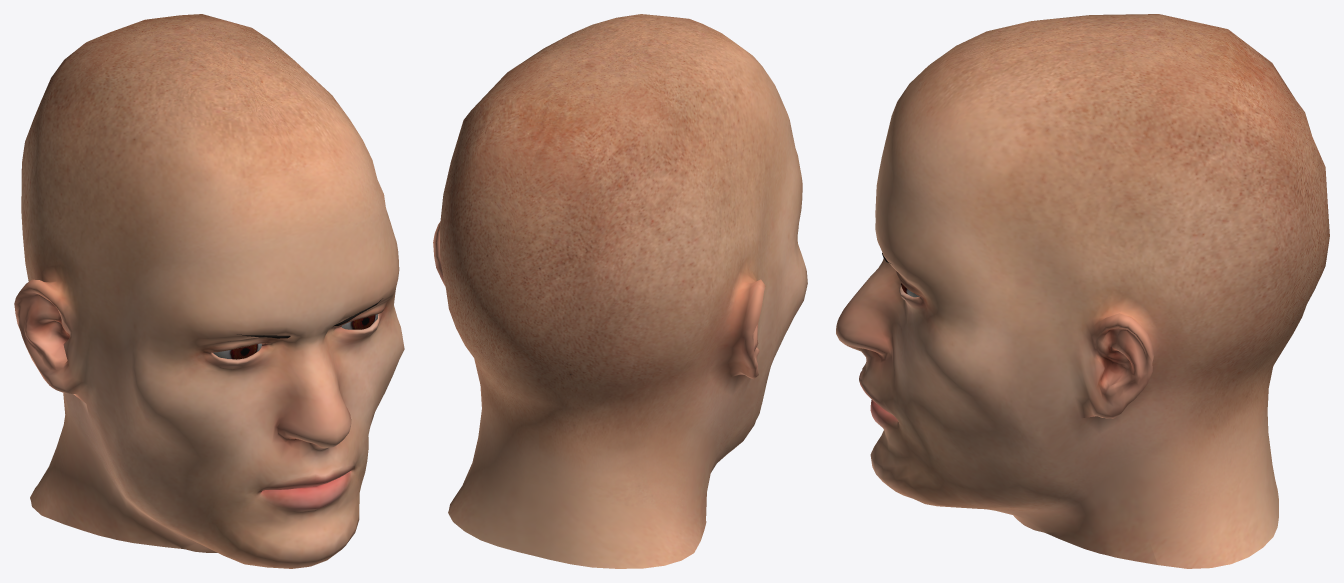
File: head_6_chadlite.fbx
The picture shows the model from 3 angles, left to right: view 1: azimuth 30°, elevation 25°; view 2: azimuth 150°, elevation 25°; view 3: azimuth 270°, elevation 25°; orthographic projection. The views are drawn at different scales.
Parts seen in each view (by area): view 1: head_6_chadlite; view 2: head_6_chadlite; view 3: head_6_chadlite.
Part boxes in pixels (x1,y1,x2,y2): head_6_chadlite: (14,14,404,568); head_6_chadlite: (433,14,807,568); head_6_chadlite: (836,14,1329,568).
Size of the model in its own units: 75.68 by 100 by 93.84.
1 material, 1 textured.
